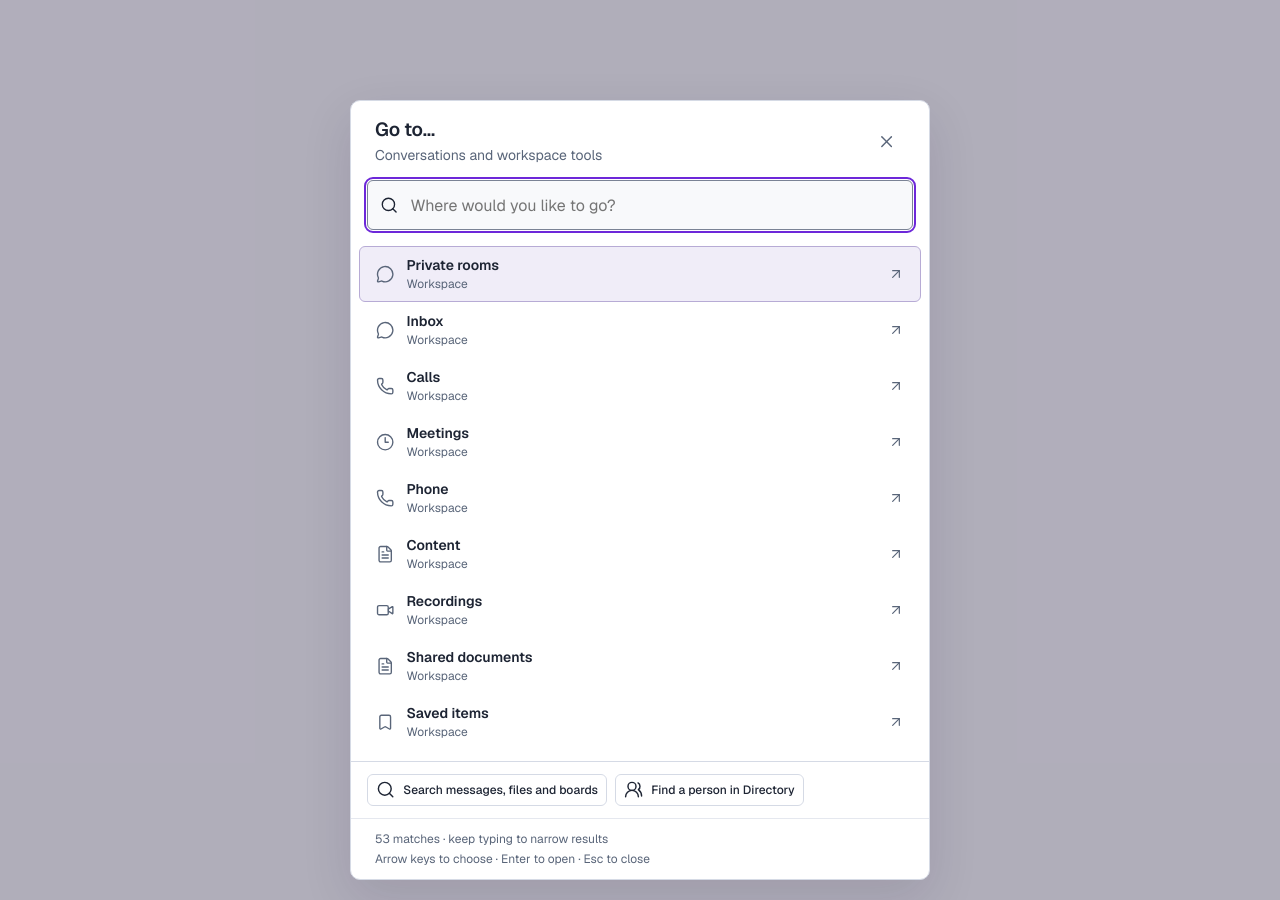
Test case: workspace switcher › bounds the initial list but keeps every authorized conversation searchable
Expected: the message shows "keep typing", [375,831,608,847]
Type "Room 39" into the dropdown at (655, 205), box [410,181,900,229]
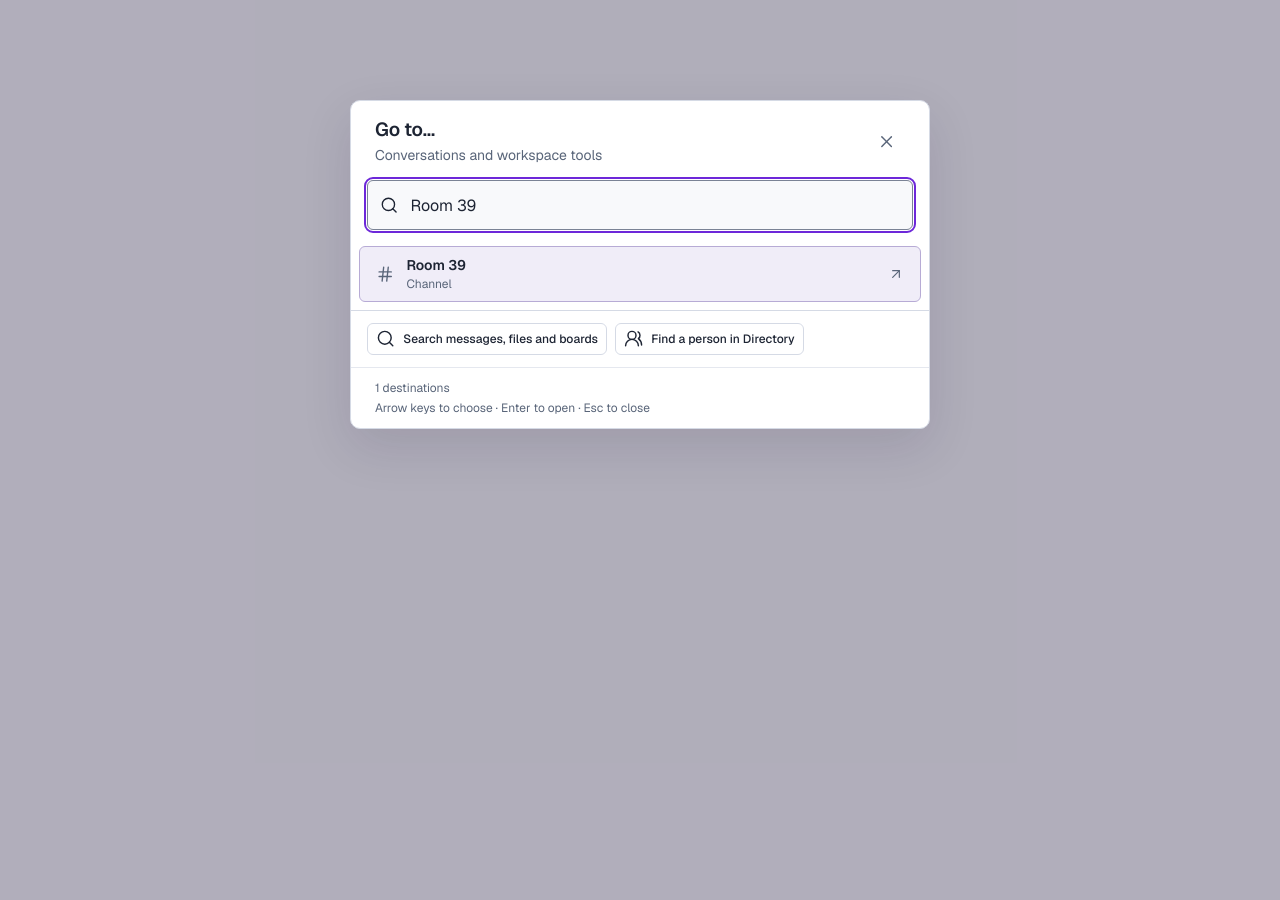
Now the number of options is 1, box [359,246,921,302]
Now the option shows "Room 39", box [359,246,921,302]
